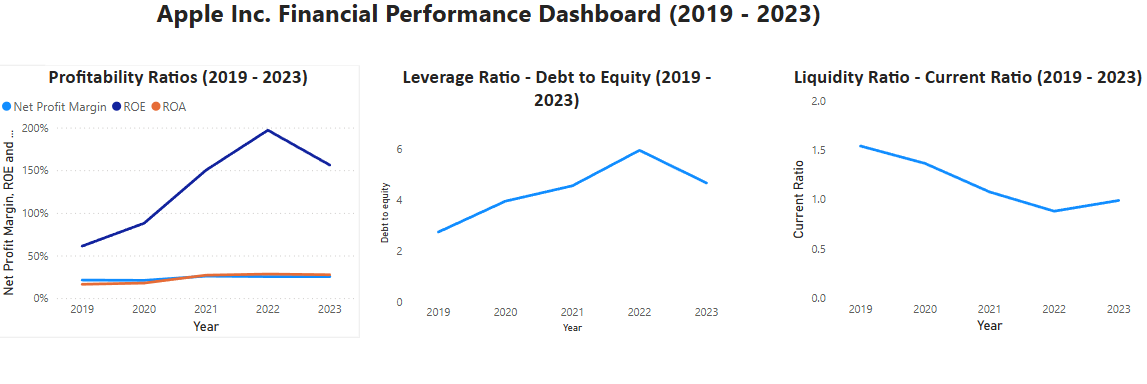

The page's visual inventory and layout, read from the dashboard file:
{"tool":"powerbi","page":{"name":"Financial Dashboard","canvas":[1280,720],"ordinal":3},"visuals":[{"type":"lineChart","title":"Profitability Ratios (2019 - 2023)","fields":{"Category":["Ratio Analysis.Year"],"Y":["Sum(Ratio Analysis.Net Profit Margin)","Sum(Ratio Analysis.ROE)","Sum(Ratio Analysis.ROA)"]},"box":[15.1,81,398,300],"z":0},{"type":"lineChart","title":"Leverage Ratio - Debt to Equity (2019 - 2023)","fields":{"Category":["Ratio Analysis.Year"],"Y":["Sum(Ratio Analysis.Debt to equity)"]},"box":[431.2,81.2,398,300],"z":1000},{"type":"lineChart","title":"Liquidity Ratio - Current Ratio (2019 - 2023)","fields":{"Category":["Ratio Analysis.Year"],"Y":["Sum(Ratio Analysis.Current Ratio)"]},"box":[882.8,81.2,398,300],"z":2000},{"type":"textbox","box":[68.8,0,973.4,81.2],"z":2001}]}

Visuals, with their boxes on the page's 1280x720 design canvas (x1, y1, x2, y2). These are canvas units, not pixel positions in the 1147x384 screenshot, which may show the page scaled, cropped or inside an application window:
"Profitability Ratios (2019 - 2023)" lineChart: box(15, 81, 413, 381)
"Leverage Ratio - Debt to Equity (2019 - 2023)" lineChart: box(431, 81, 829, 381)
"Liquidity Ratio - Current Ratio (2019 - 2023)" lineChart: box(883, 81, 1281, 381)
textbox: box(69, 0, 1042, 81)
